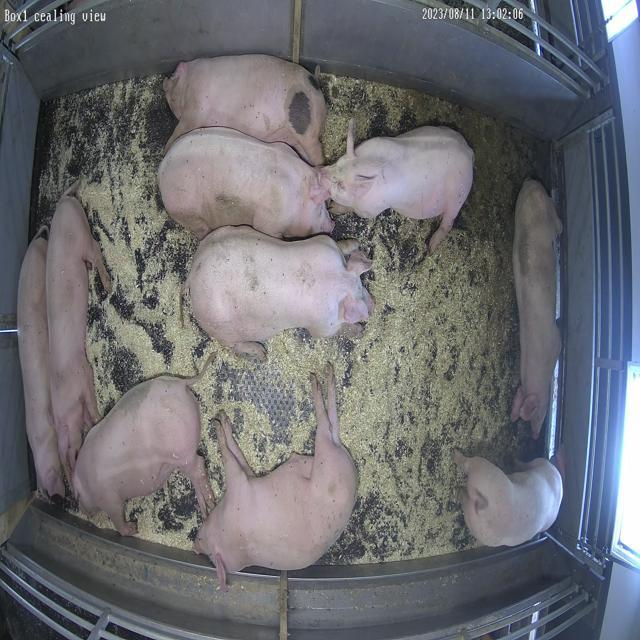Dirt: (403, 90, 536, 270)
Pig: (195, 366, 357, 592), (187, 226, 374, 360), (72, 376, 214, 536), (324, 120, 474, 252), (158, 127, 334, 238), (45, 180, 111, 474), (164, 54, 326, 166), (512, 179, 564, 438), (16, 226, 64, 498), (456, 447, 567, 548)
